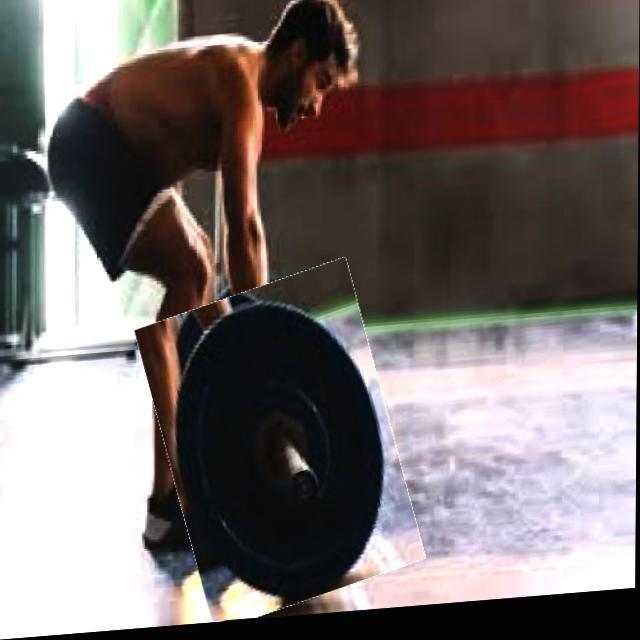barbell: (152, 272, 410, 629)
